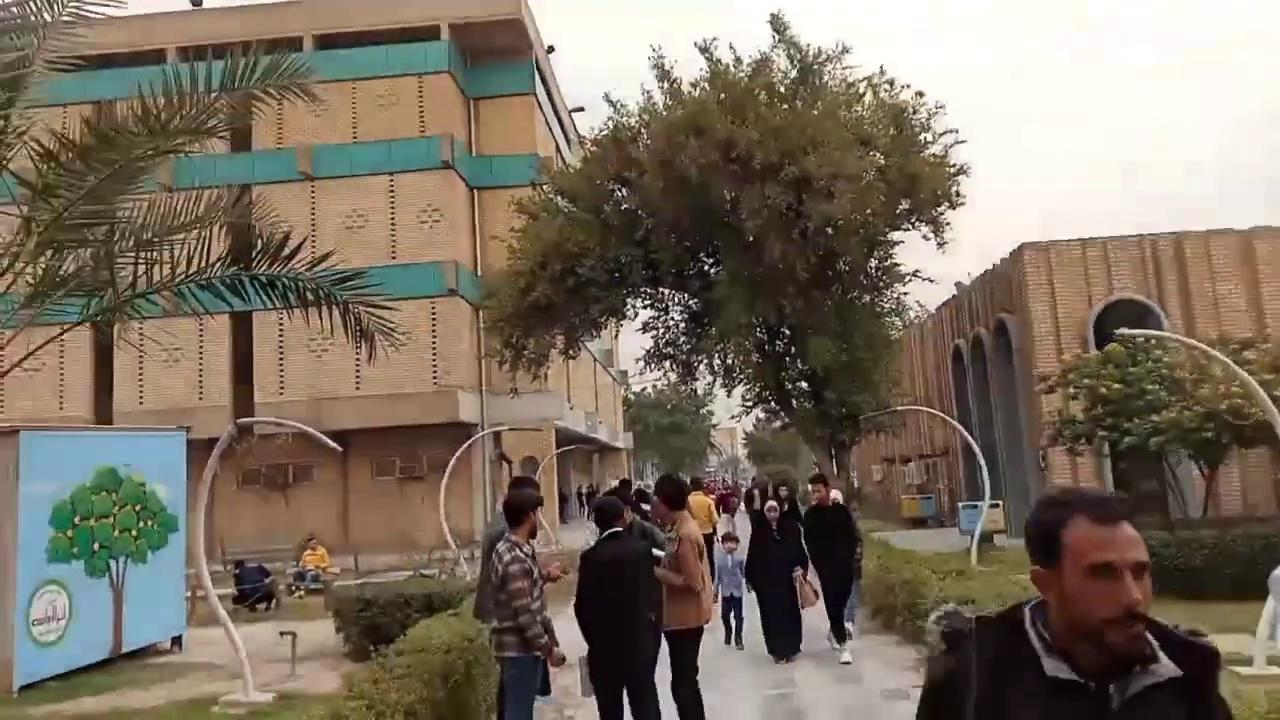person: (915, 486, 1233, 719), (474, 487, 568, 719), (573, 495, 667, 719), (648, 473, 713, 719), (802, 472, 860, 664), (231, 559, 279, 612), (297, 536, 330, 582)
tree: (478, 7, 971, 500), (0, 0, 412, 387), (1034, 326, 1278, 530), (44, 463, 179, 657), (0, 0, 128, 178), (337, 604, 501, 718), (623, 381, 721, 482), (741, 425, 779, 478)
